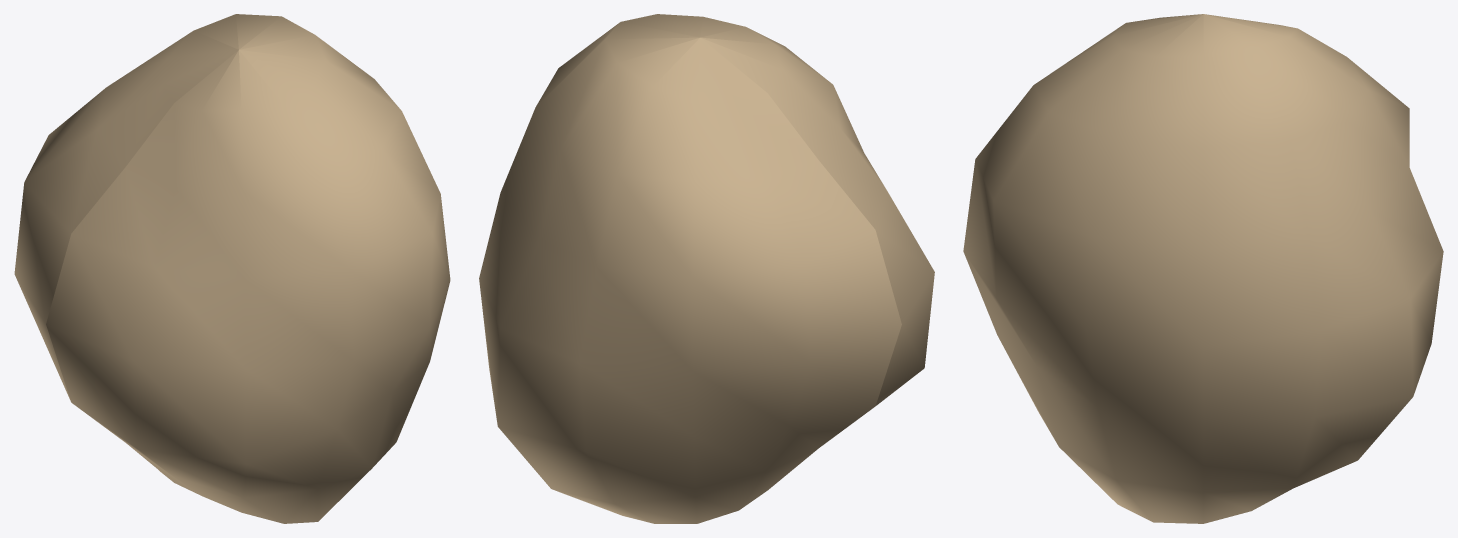
File: left_triquetrum.glb
The picture shows the model from 3 angles, left to right: view 1: azimuth 30°, elevation 25°; view 2: azimuth 150°, elevation 25°; view 3: azimuth 270°, elevation 25°; orthographic projection. The views are drawn at different scales.
Visible parts, largest first — view 1: left_triquetrum:body; view 2: left_triquetrum:body; view 3: left_triquetrum:body.
Boxes of the visible parts, box(x1,y1,x2,y2) form: left_triquetrum:body: box(14, 14, 450, 523); left_triquetrum:body: box(479, 14, 934, 523); left_triquetrum:body: box(963, 14, 1443, 523).
Size of the model in its own units: 0.0987 by 0.1128 by 0.1034.
